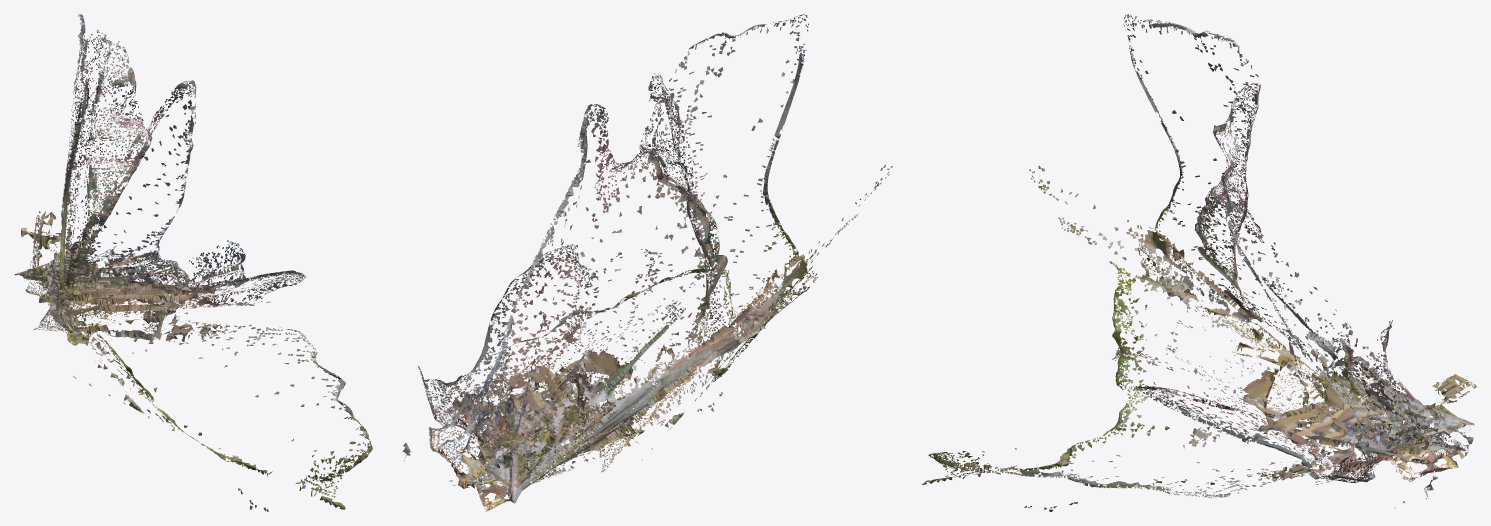
3 renders of one model, left to right at view 1: azimuth 30°, elevation 25°; view 2: azimuth 150°, elevation 25°; view 3: azimuth 270°, elevation 25°, orthographic. The views are drawn at different scales.
Parts seen in each view (by area): view 1: geometry_0; view 2: geometry_0; view 3: geometry_0.
Part boxes in pixels (box(x1,y1,x2,y2)): geometry_0: box(14, 14, 372, 511); geometry_0: box(402, 14, 892, 511); geometry_0: box(922, 14, 1476, 511).
Size of the model in its own units: 1.22 by 1.71 by 1.97.
